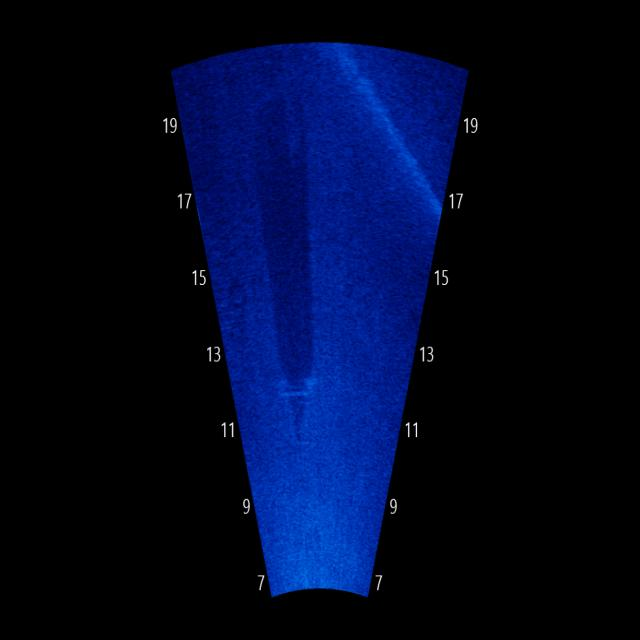triangle: (269, 366, 321, 458)
